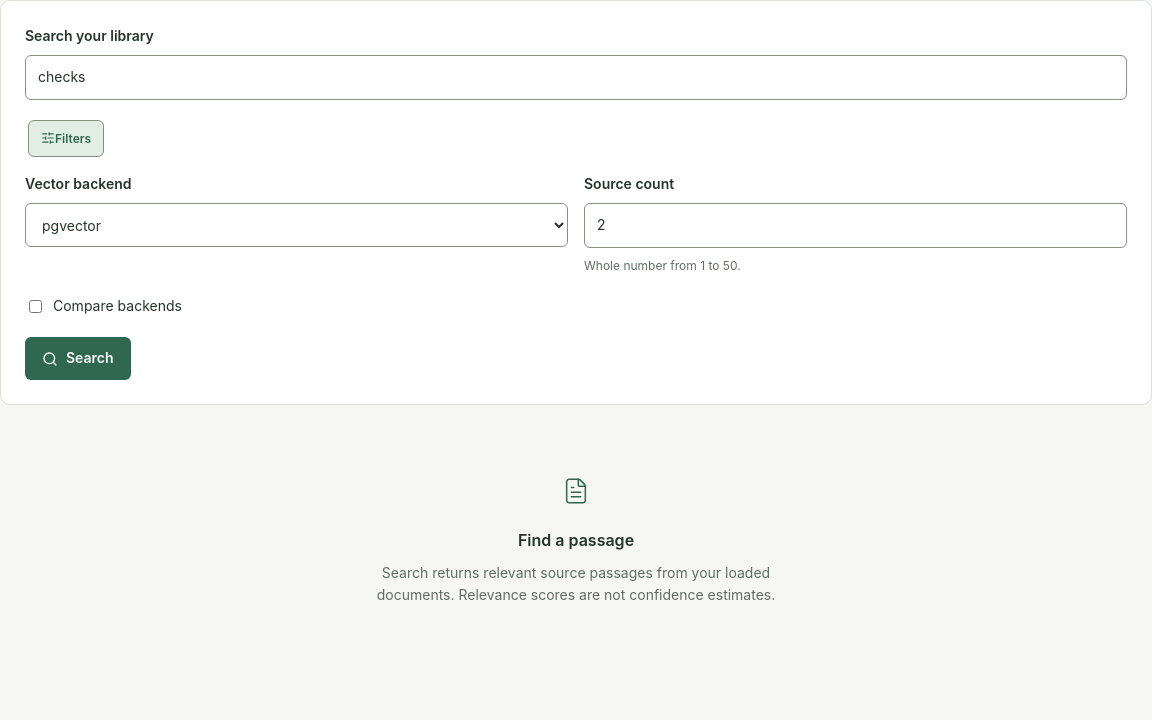
Test: Search › stops waiting without accepting a late result
Submit the form labelled "Search your library", box [25, 25, 1127, 380]
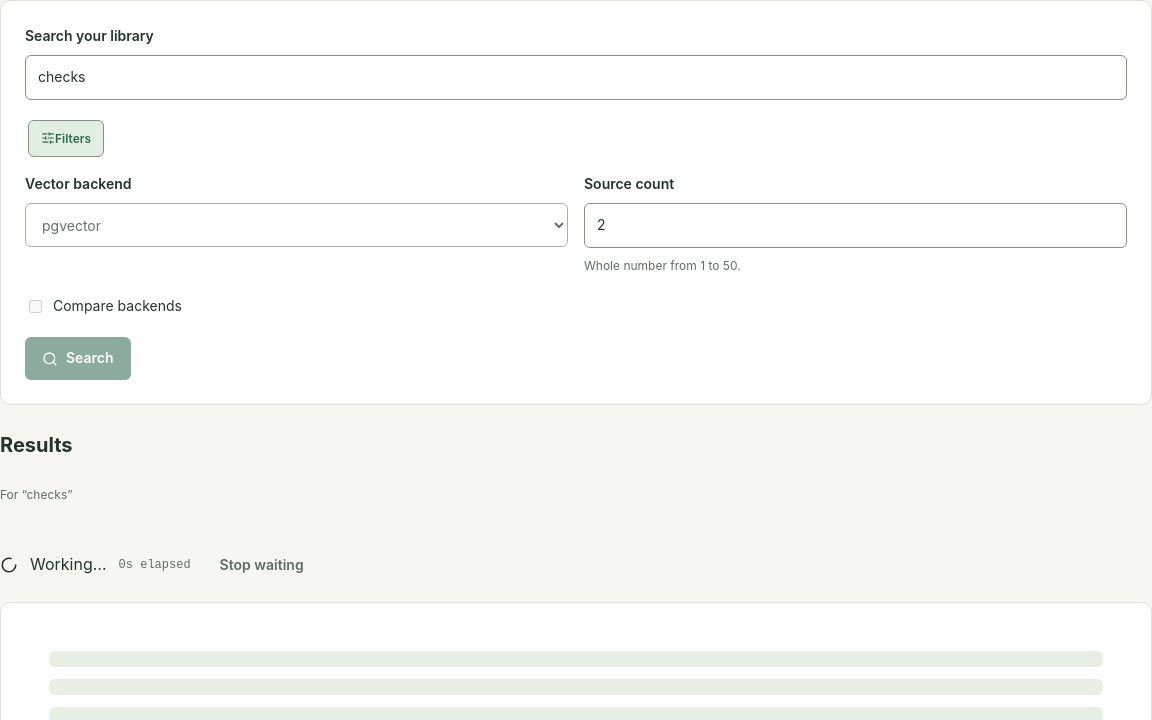
Expected: the button "Search" is disabled, [25, 337, 130, 380]
Click the button "Stop waiting". click: point(262, 565)
box: [203, 544, 321, 586]
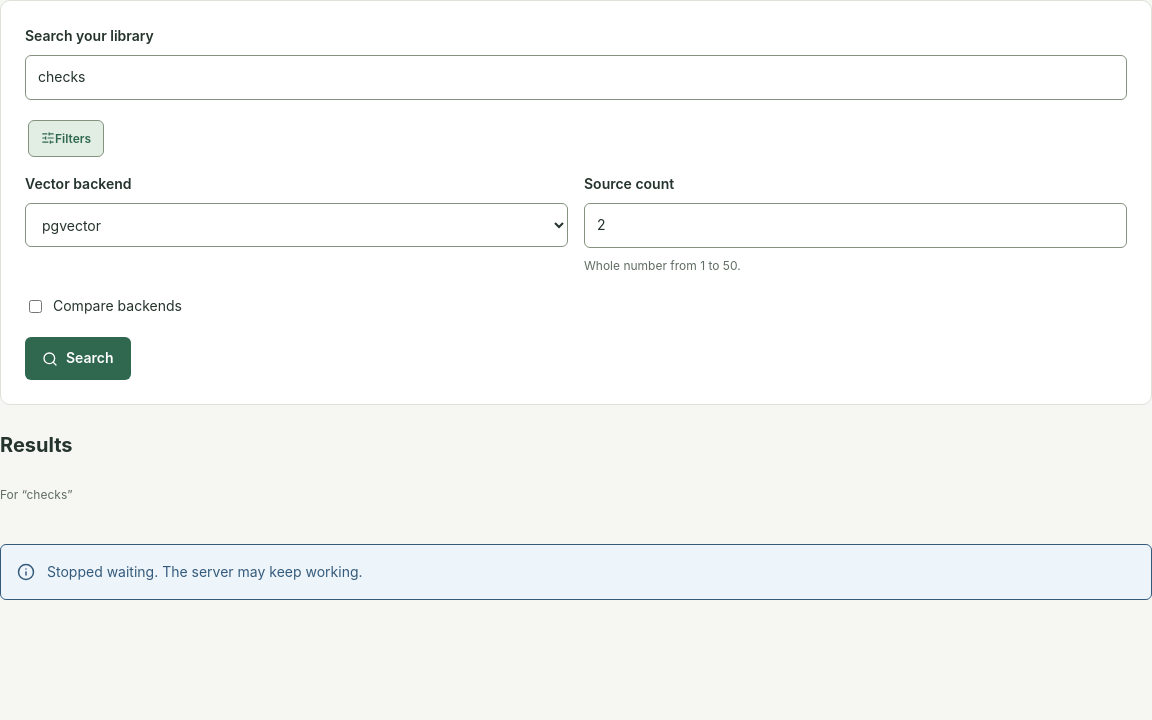
Expected: the text "Stopped waiting. The server may keep working." is shown, [47, 563, 362, 580]
